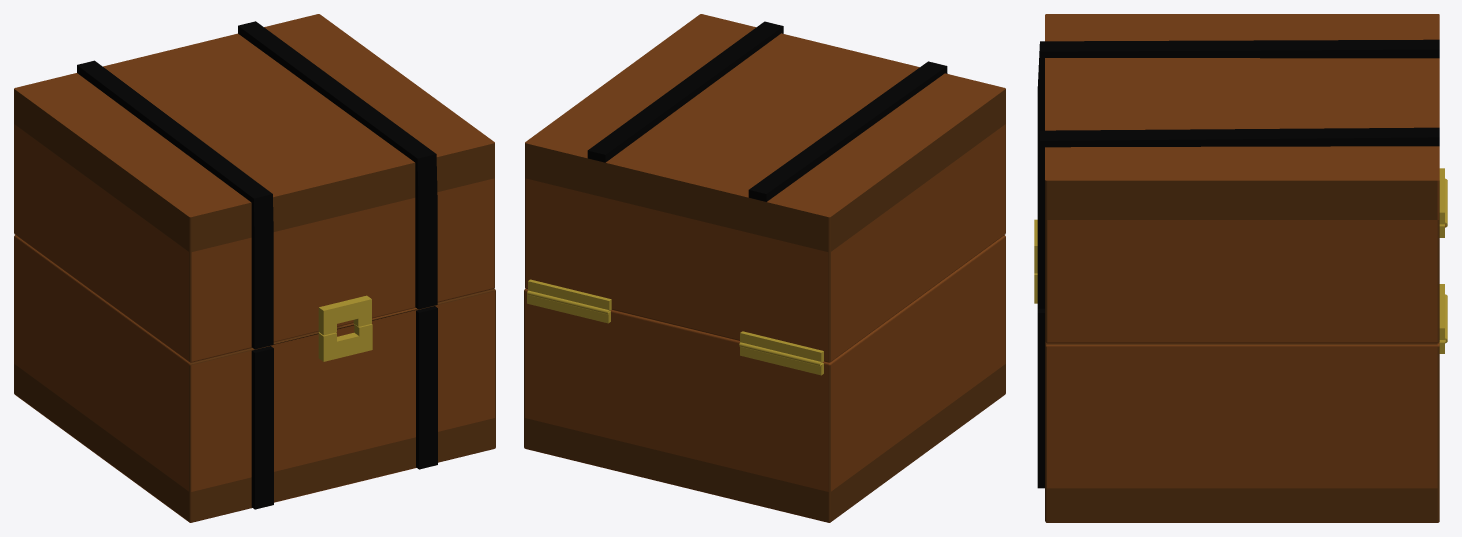
Rendered from StorageChest.fbx.
The picture shows the model from 3 angles, left to right: view 1: azimuth 30°, elevation 25°; view 2: azimuth 150°, elevation 25°; view 3: azimuth 270°, elevation 25°; orthographic projection. The views are drawn at different scales.
Visible parts, largest first — view 1: Cube.001, Cube.003; view 2: Cube.001, Cube.003; view 3: Cube.001, Cube.003.
Boxes of the visible parts, box(x1,y1,x2,y2) form: Cube.001: box(14, 14, 494, 362); Cube.003: box(14, 235, 495, 522); Cube.001: box(525, 14, 1005, 366); Cube.003: box(524, 235, 1005, 522); Cube.001: box(1034, 14, 1447, 343); Cube.003: box(1034, 224, 1444, 522).
Bounding box in the file's own units: 201 × 196 × 210.
